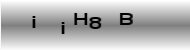8: (89, 16, 102, 30)
B: (119, 11, 134, 26)
H: (73, 11, 87, 26)
i: (30, 14, 36, 29), (60, 20, 65, 35)
